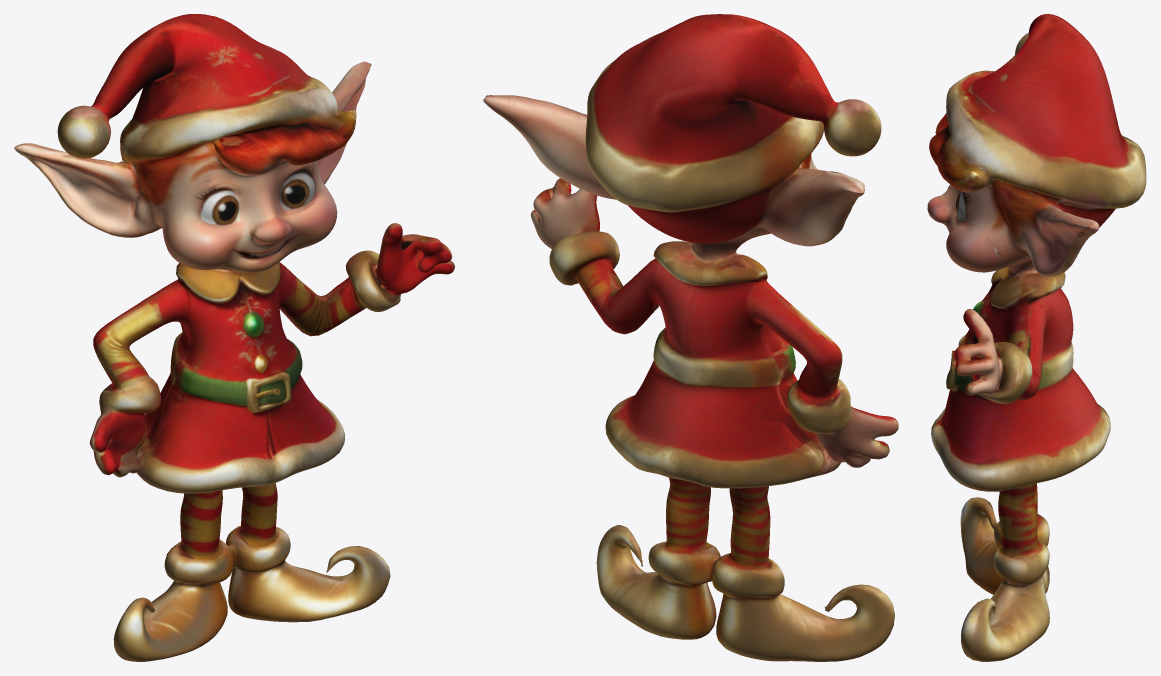
Rendered from elf-girl.glb.
3 renders of one model, left to right at view 1: azimuth 30°, elevation 25°; view 2: azimuth 150°, elevation 25°; view 3: azimuth 270°, elevation 25°, orthographic. The views are drawn at different scales.
Bounding box in the file's own units: 1.31 × 2 × 0.6926.
Materials: 1 (1 with a texture image).
